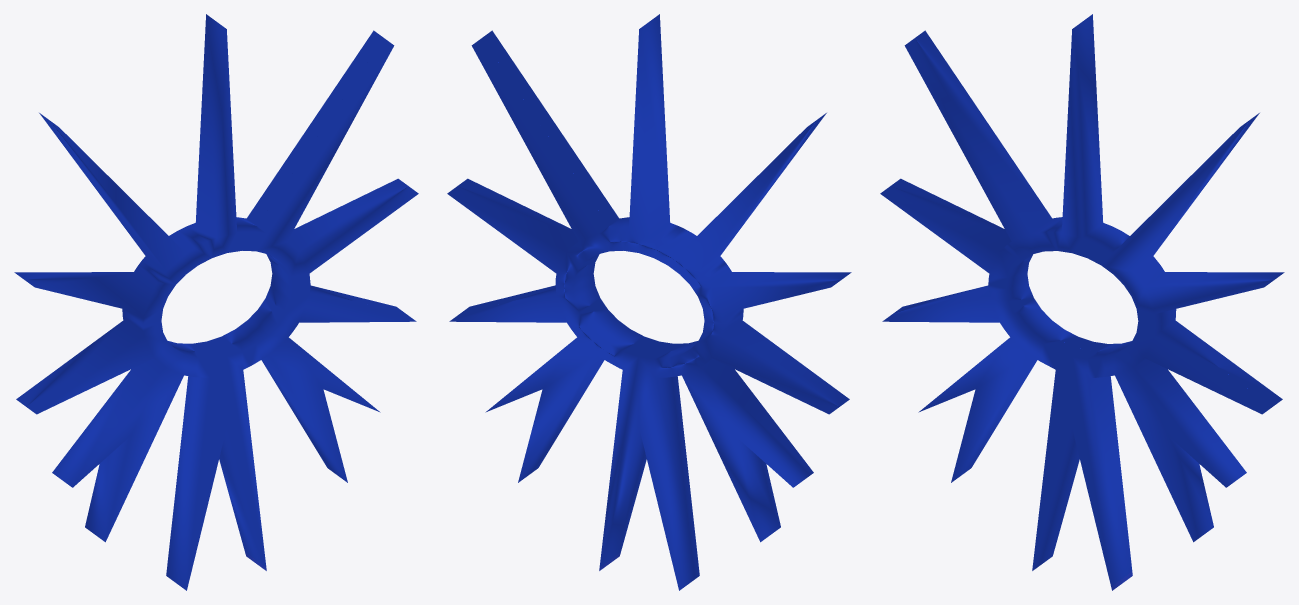
Rendered from ps2_save-icons_thekingoffighterstheorochisaga.glb.
The picture shows the model from 3 angles, left to right: view 1: azimuth 30°, elevation 25°; view 2: azimuth 150°, elevation 25°; view 3: azimuth 330°, elevation 25°; orthographic projection.
Parts seen in each view (by area): view 1: koforochi.ico; view 2: koforochi.ico; view 3: koforochi.ico.
Part boxes in pixels (x1=…): koforochi.ico: x1=14, y1=14, x2=418, y2=590; koforochi.ico: x1=447, y1=14, x2=851, y2=590; koforochi.ico: x1=880, y1=14, x2=1284, y2=590.
Size of the model in its own units: 3.5 by 4.8 by 0.3262.
1 material, 1 textured.
